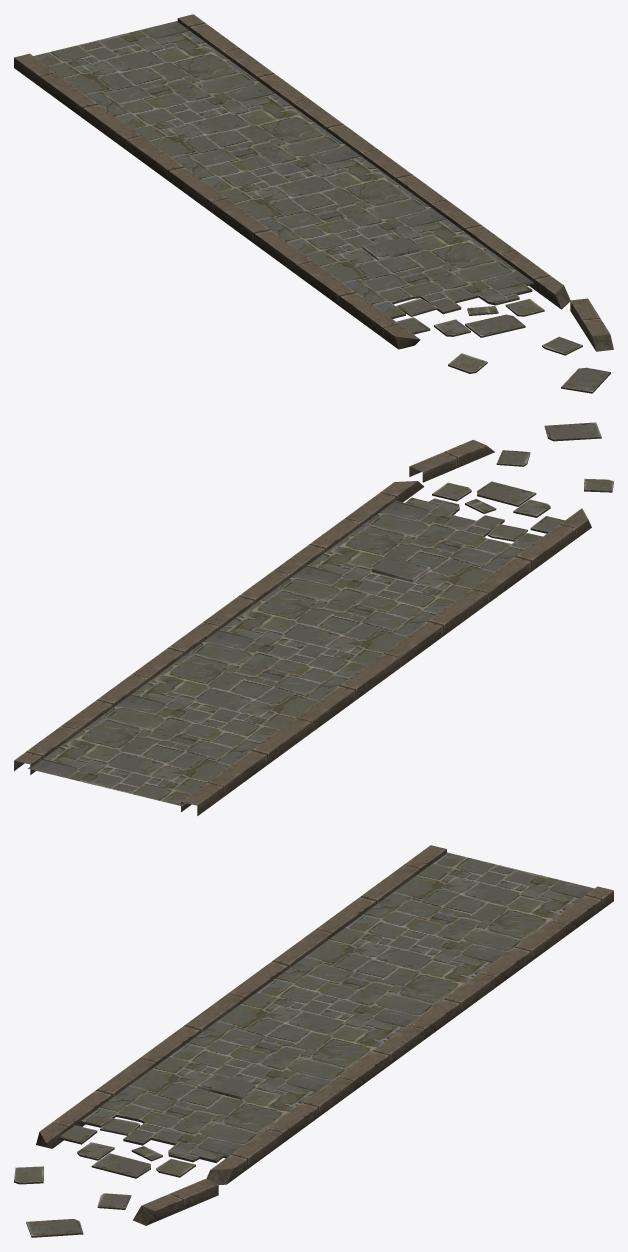
The model's file is building_city_lumian_po.FBX.
3 renders of one model, top to bottom at view 1: azimuth 30°, elevation 25°; view 2: azimuth 150°, elevation 25°; view 3: azimuth 330°, elevation 25°, orthographic. The views are drawn at different scales.
Visible parts, largest first — view 1: building_city_lumian_po; view 2: building_city_lumian_po; view 3: building_city_lumian_po.
Part boxes in pixels (x1,y1,x2,y2): building_city_lumian_po: [14, 14, 613, 393]; building_city_lumian_po: [14, 422, 613, 815]; building_city_lumian_po: [14, 845, 613, 1237].
Size of the model in its own units: 8.83 by 40.28 by 0.4834.
